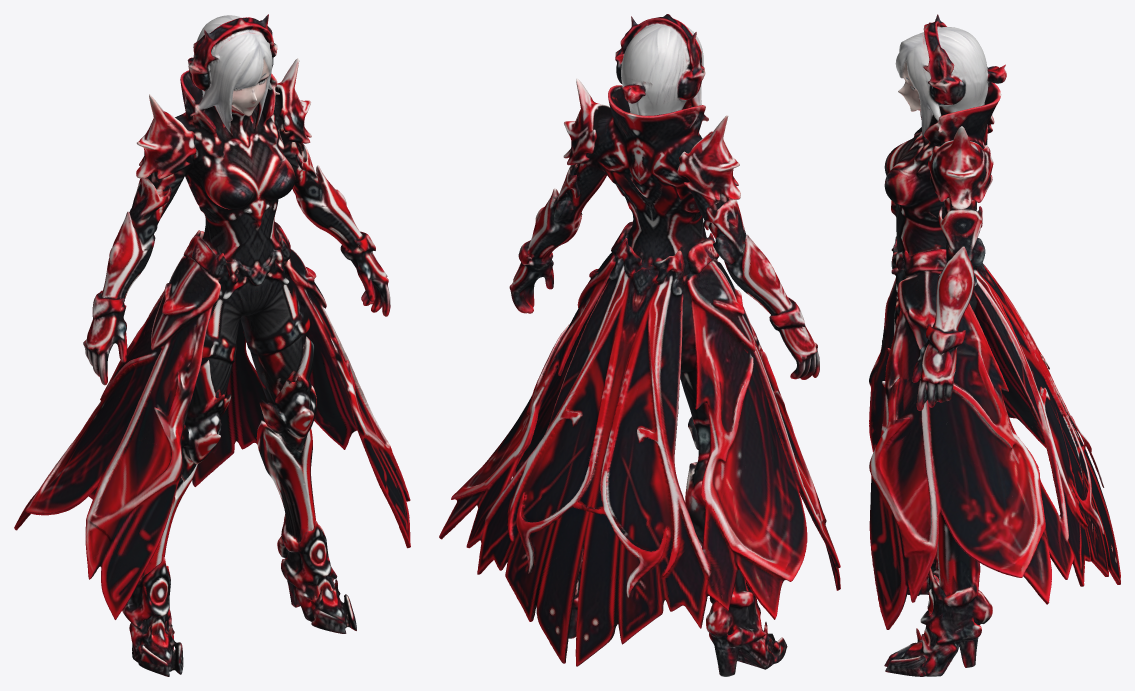
File: sera_n1.glb
3 views of the same model, side by side, from view 1: azimuth 30°, elevation 25°; view 2: azimuth 150°, elevation 25°; view 3: azimuth 270°, elevation 25° (orthographic). The views are drawn at different scales.
Bounding box in the file's own units: 1.08 × 1.9 × 0.7176.
1 material, 1 textured.
